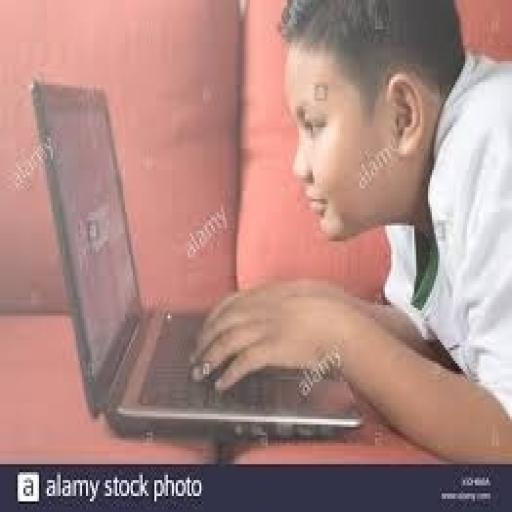using_laptop: (28, 72, 366, 443)
